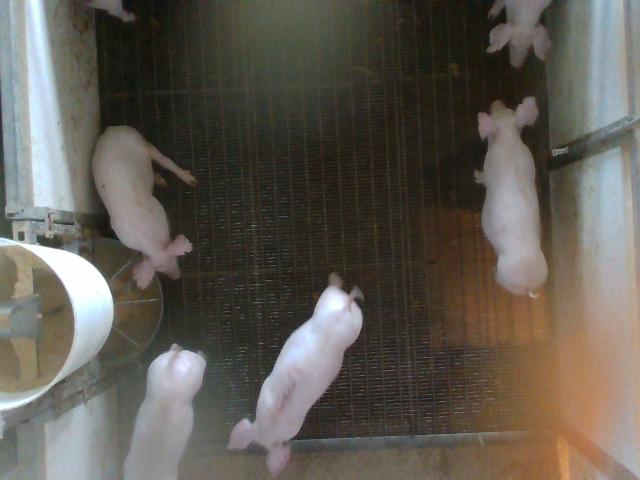pig-3: (229, 272, 362, 477)
